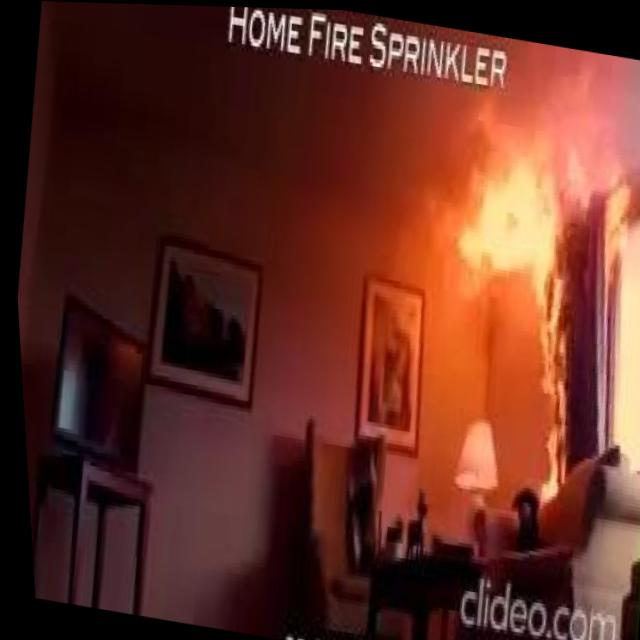fire: (437, 118, 584, 296), (507, 290, 584, 492), (592, 160, 638, 276)
